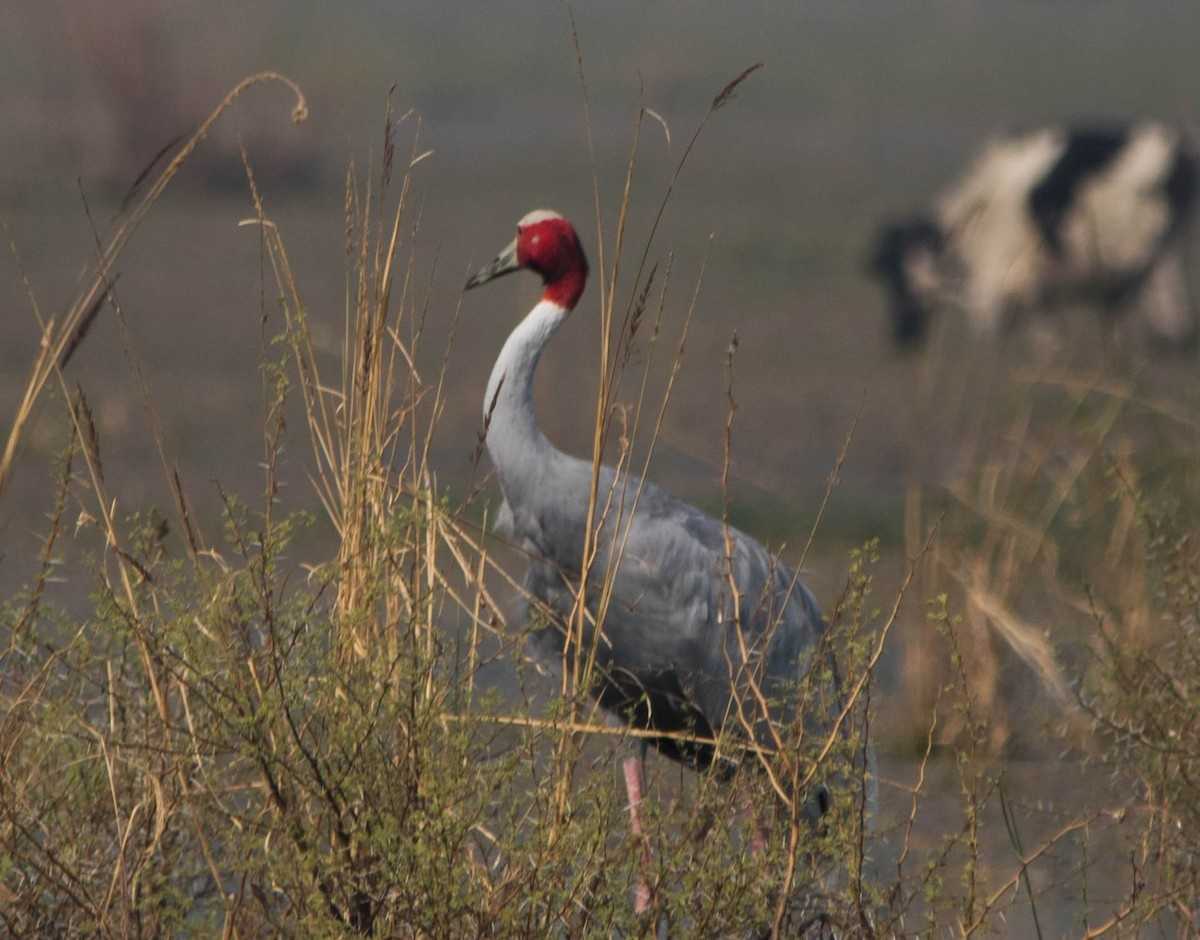crane: (463, 201, 882, 856)
